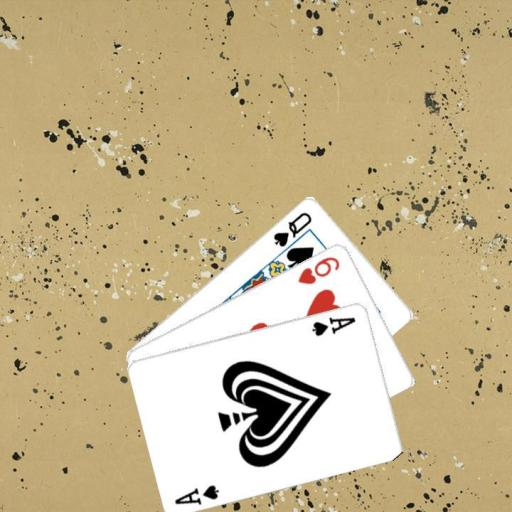6H: (295, 252, 342, 286)
AS: (172, 481, 222, 506), (309, 313, 358, 337)
QS: (270, 209, 314, 249)
